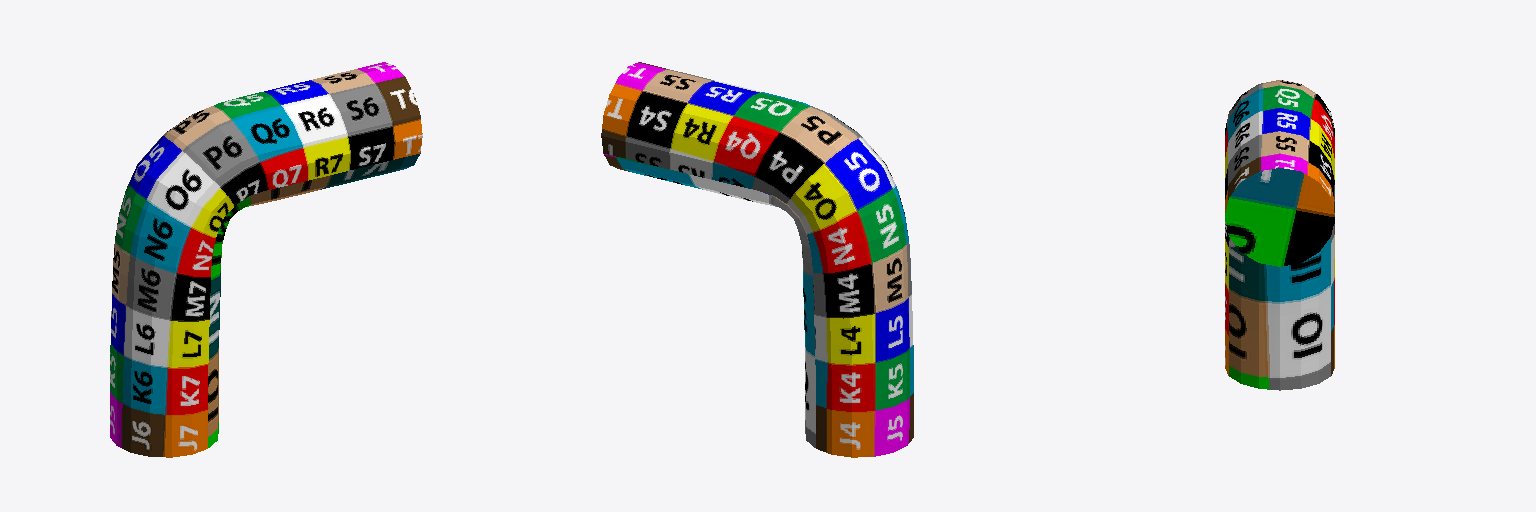
The picture shows the model from 3 angles: view 1: azimuth 30°, elevation 25°; view 2: azimuth 150°, elevation 25°; view 3: azimuth 270°, elevation 25°; orthographic projection.
Parts seen in each view (by area): view 1: default; view 2: default; view 3: default.
Boxes of the visible parts, box(x1,y1,x2,y2) form: default: box(110, 62, 422, 457); default: box(601, 62, 913, 457); default: box(1225, 80, 1334, 390).
Bounding box in the file's own units: 25.39 × 27.24 × 8.77.
Materials: 1 (1 with a texture image).